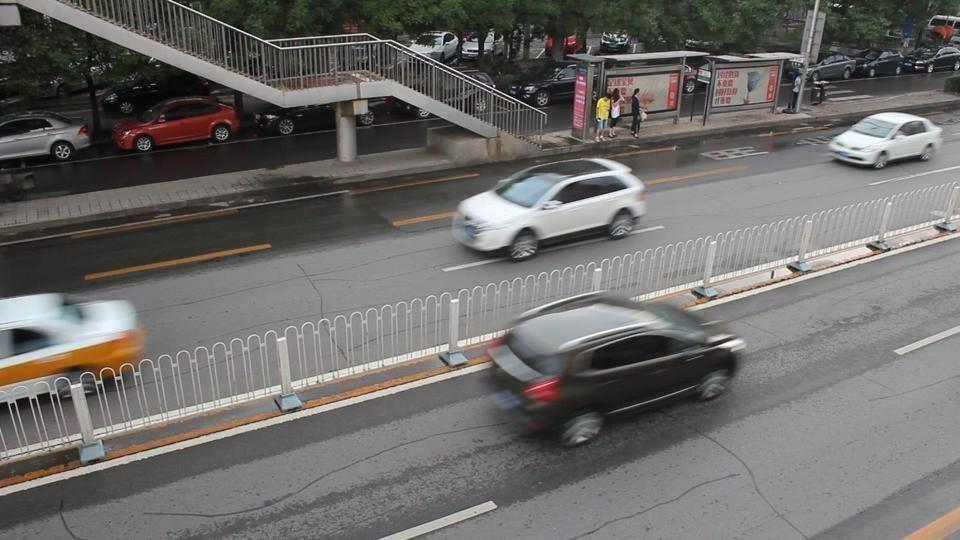car: (482, 289, 747, 448), (450, 158, 648, 261), (1, 292, 147, 390), (111, 95, 241, 153), (827, 111, 943, 169), (1, 113, 92, 165), (100, 79, 211, 116), (504, 62, 586, 107), (409, 32, 461, 64), (850, 51, 905, 78), (805, 55, 858, 81), (919, 47, 960, 75), (596, 30, 643, 54)
